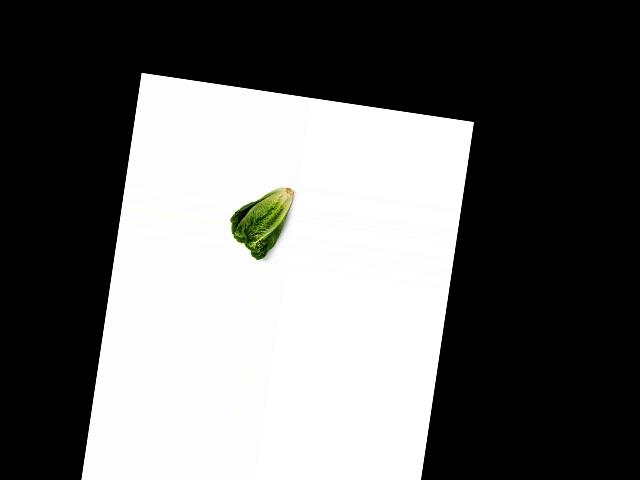lettuce: (226, 175, 297, 263)
